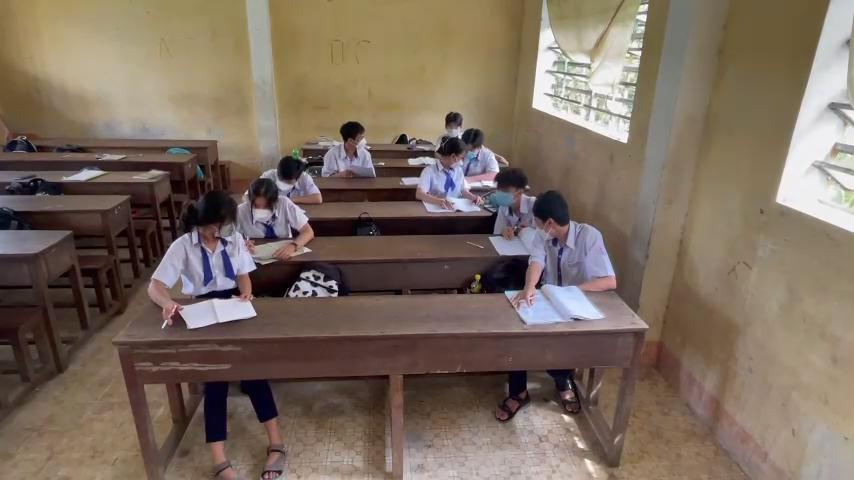Look Around: (176, 185, 248, 243), (515, 185, 586, 243), (486, 167, 534, 218), (423, 129, 471, 178), (330, 117, 378, 165)
